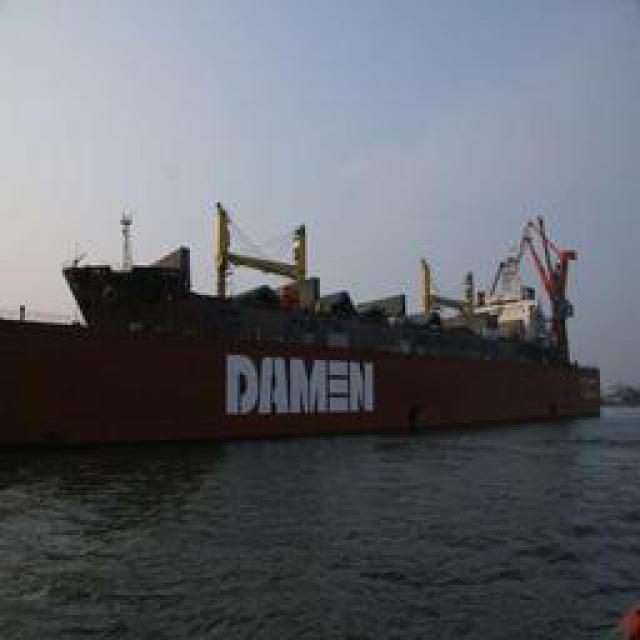Ship: (15, 197, 605, 445)
